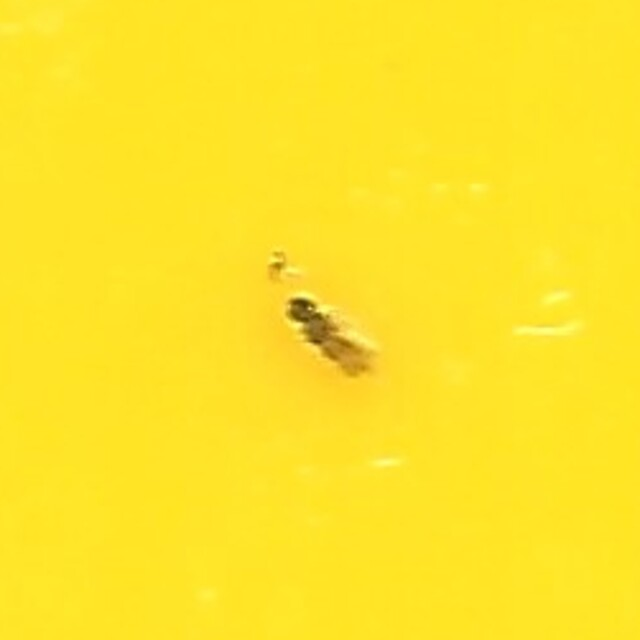Hymenoptera: (255, 252, 385, 388)
